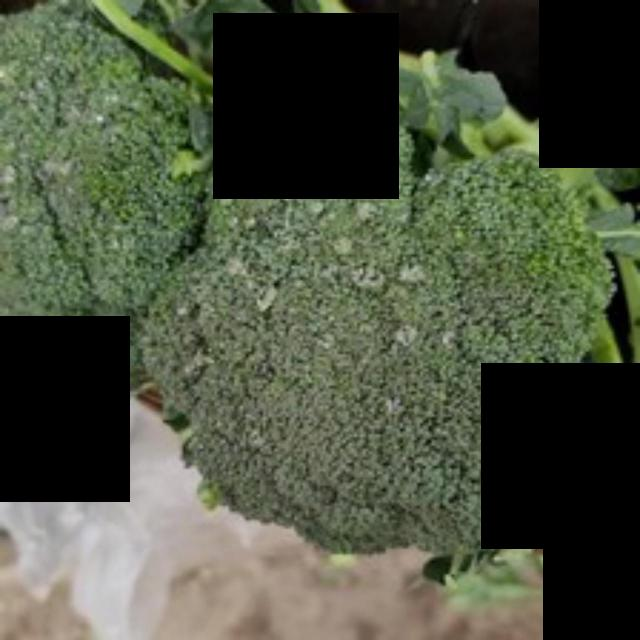broccoli: (145, 113, 626, 570)
